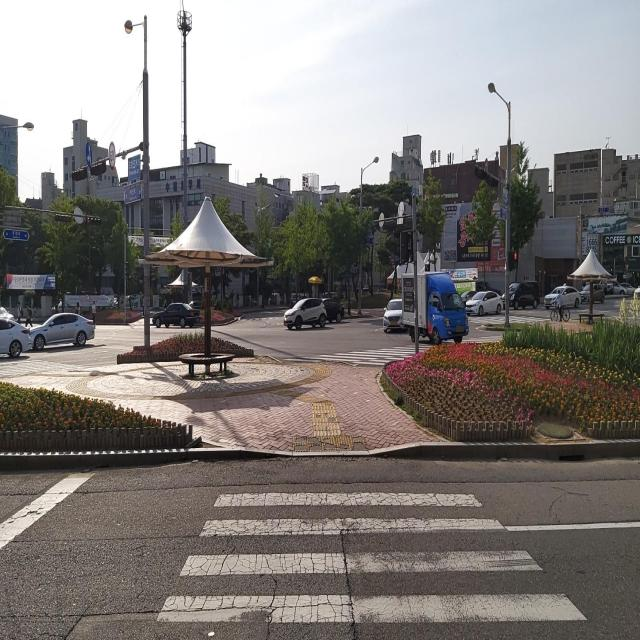빨간불: (513, 245, 518, 268)
횡단보도: (156, 495, 590, 625), (311, 341, 424, 368)
